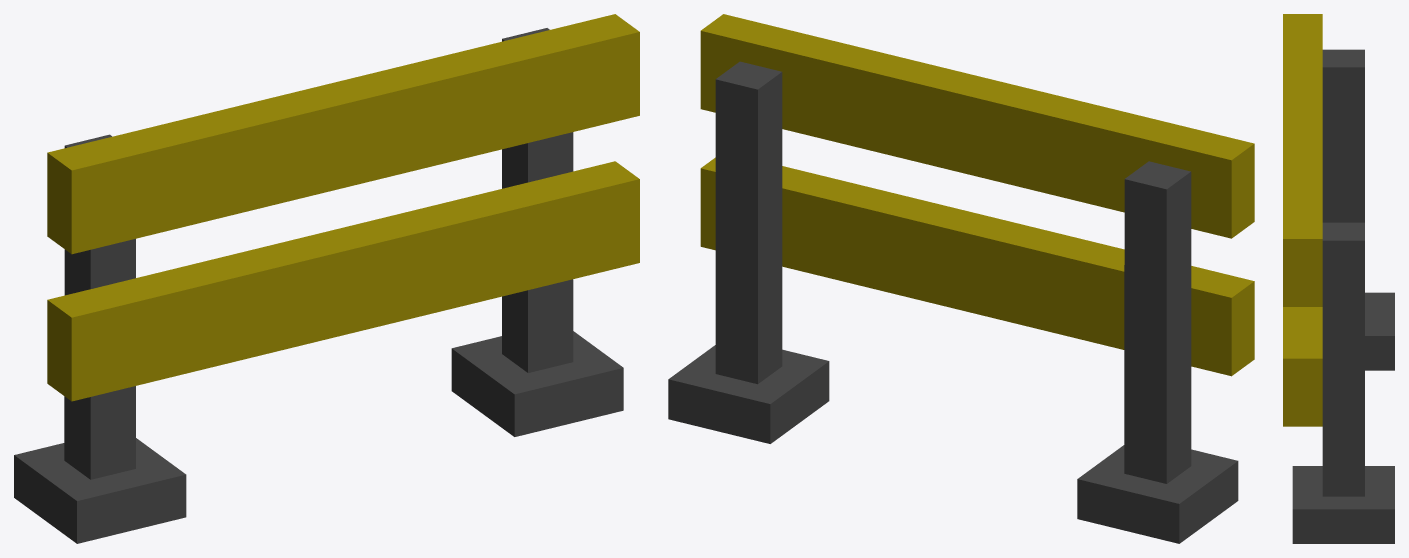
File: fence_04.fbx
3 views of the same model, side by side, from view 1: azimuth 30°, elevation 25°; view 2: azimuth 150°, elevation 25°; view 3: azimuth 270°, elevation 25° (orthographic). The views are drawn at different scales.
Parts seen in each view (by area): view 1: fence_04; view 2: fence_04; view 3: fence_04.
Part boxes in pixels (x1,y1,x2,y2): fence_04: [14, 14, 639, 543]; fence_04: [668, 14, 1254, 543]; fence_04: [1283, 14, 1394, 543].
Size of the model in its own units: 164 by 105 by 34.44.
